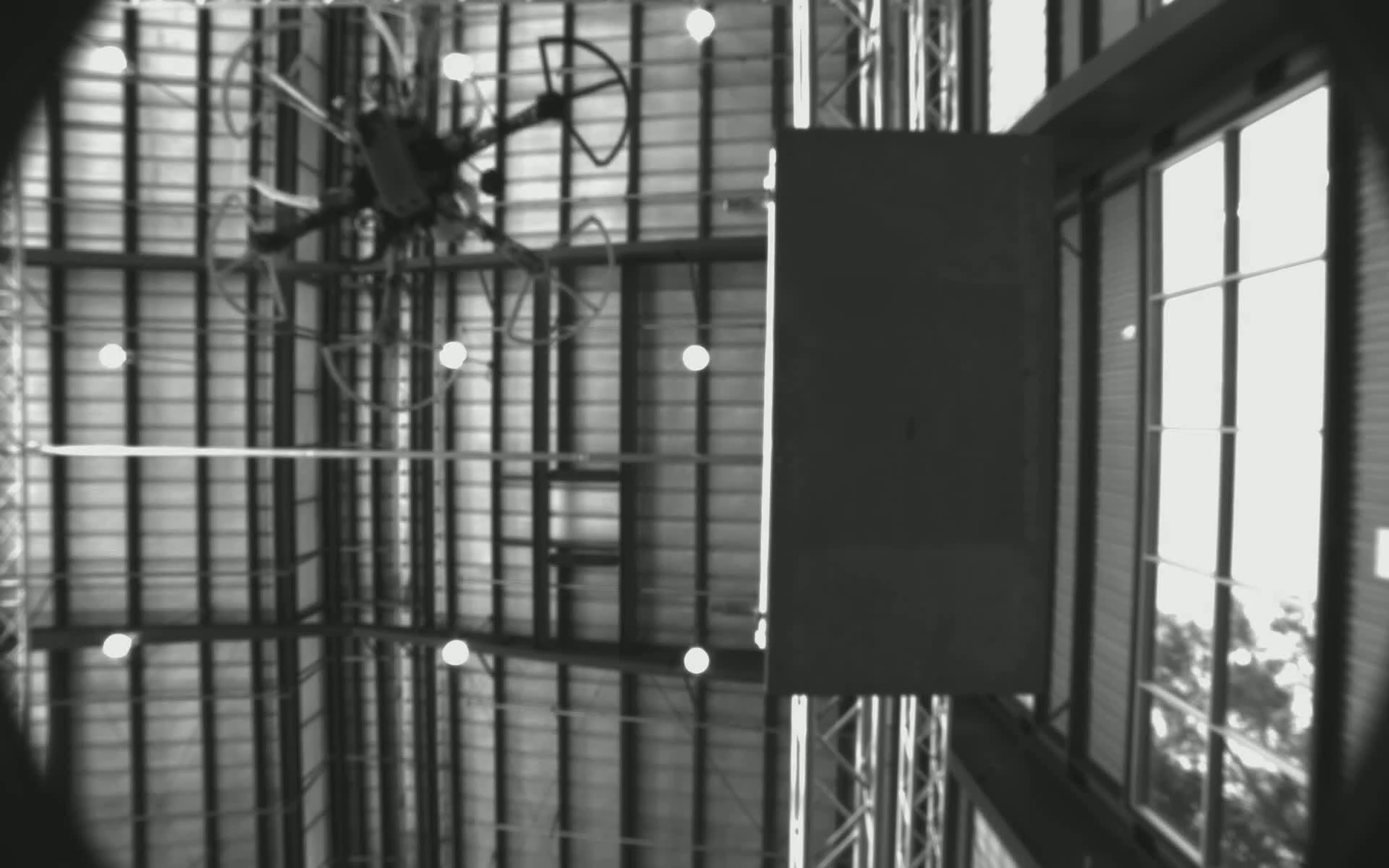drone: (191, 0, 637, 419)
